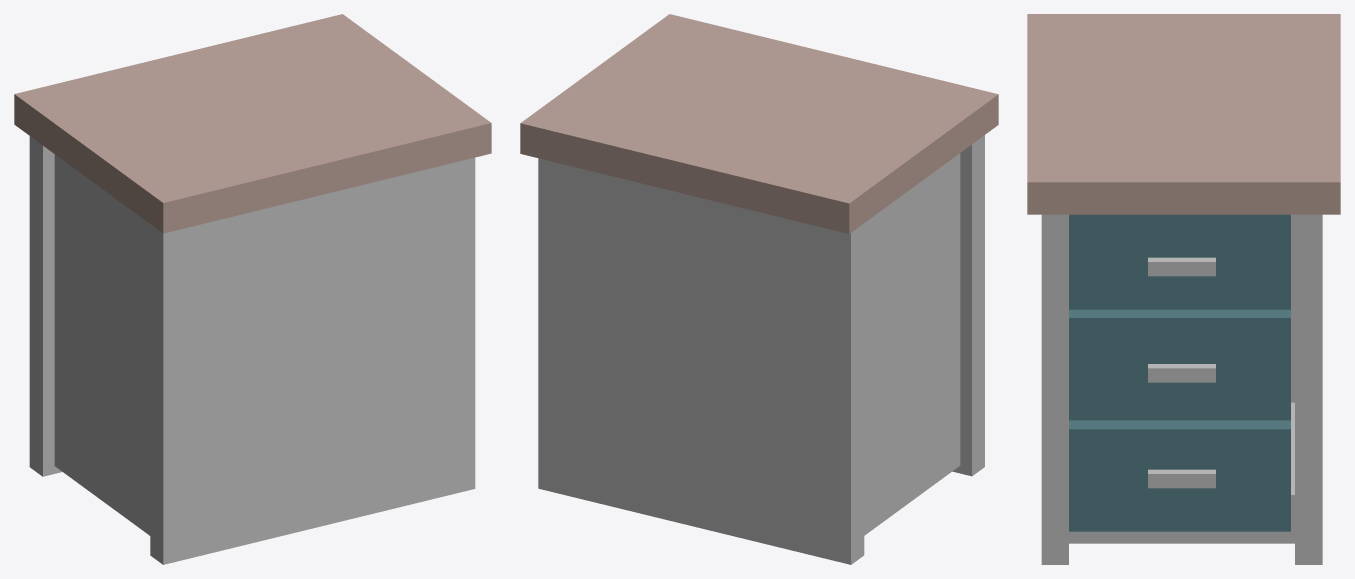
Rendered from SM_Shelf_B_Empty.fbx.
3 views of the same model, side by side, from view 1: azimuth 30°, elevation 25°; view 2: azimuth 150°, elevation 25°; view 3: azimuth 270°, elevation 25° (orthographic). The views are drawn at different scales.
Parts seen in each view (by area): view 1: SM_Shelf_B_Empty; view 2: SM_Shelf_B_Empty; view 3: SM_Shelf_B_Empty.
Part boxes in pixels (left/top/right/bottom): SM_Shelf_B_Empty: left=14, top=14, right=491, bottom=564; SM_Shelf_B_Empty: left=520, top=14, right=998, bottom=564; SM_Shelf_B_Empty: left=1027, top=14, right=1340, bottom=564.
Size of the model in its own units: 72.34 by 77.61 by 56.85.
Materials: 1 (1 with a texture image).
